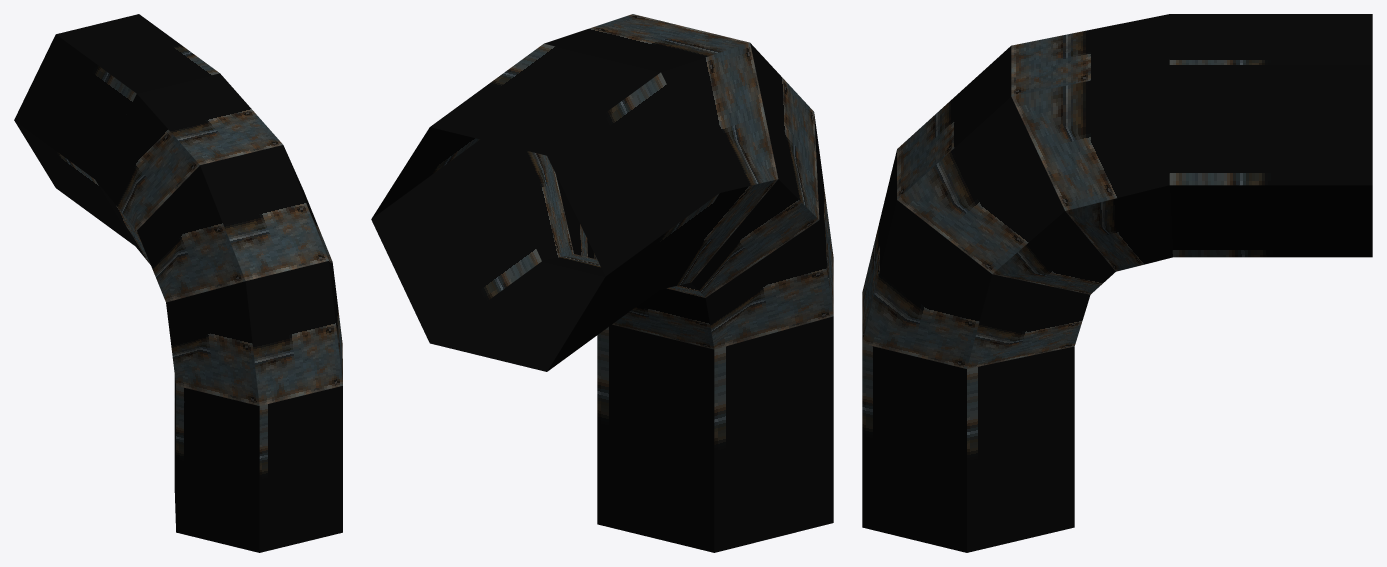
3 views of the same model, side by side, from view 1: azimuth 30°, elevation 25°; view 2: azimuth 150°, elevation 25°; view 3: azimuth 270°, elevation 25° (orthographic). The views are drawn at different scales.
Parts seen in each view (by area): view 1: prim197-pipe03; view 2: prim197-pipe03; view 3: prim197-pipe03.
Part boxes in pixels (box(x1,y1,x2,y2)): prim197-pipe03: box(14, 14, 342, 552); prim197-pipe03: box(371, 14, 833, 552); prim197-pipe03: box(862, 14, 1372, 552).
Size of the model in its own units: 76 by 161 by 161.
Materials: 1 (1 with a texture image).
